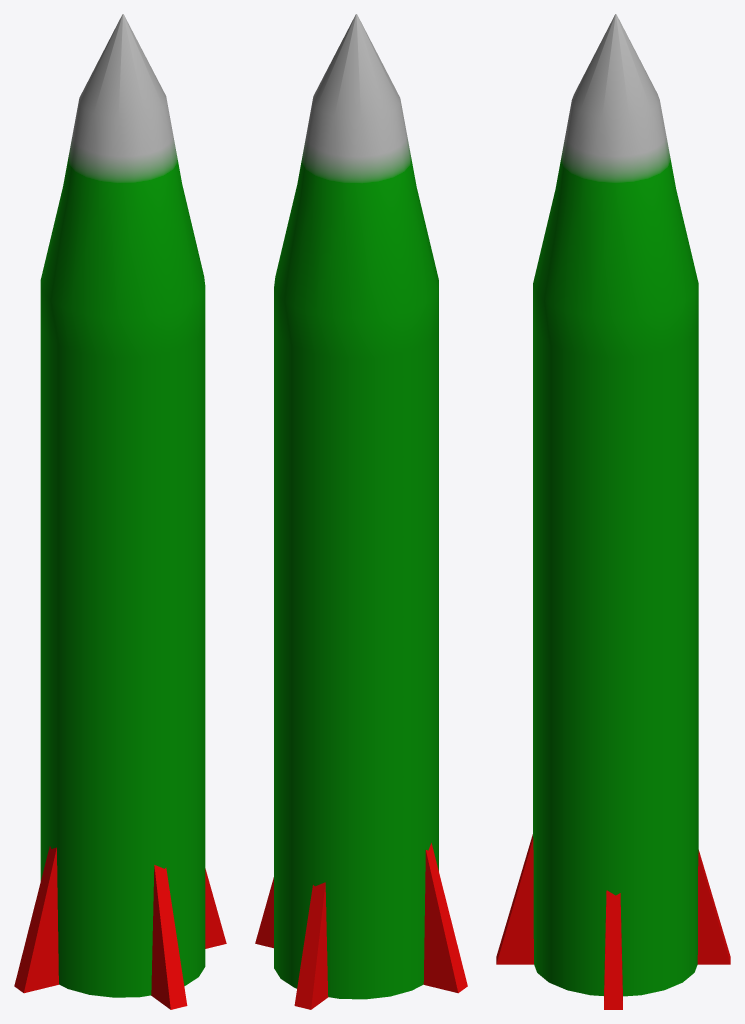
Rendered from rocket.fbx.
3 renders of one model, left to right at view 1: azimuth 30°, elevation 25°; view 2: azimuth 150°, elevation 25°; view 3: azimuth 270°, elevation 25°, orthographic.
Parts seen in each view (by area): view 1: rocket; view 2: rocket; view 3: rocket.
Boxes of the visible parts, box(x1,y1,x2,y2) form: rocket: box(14, 14, 226, 1009); rocket: box(255, 14, 467, 1009); rocket: box(496, 14, 730, 1009).
Size of the model in its own units: 0.1737 by 0.7763 by 0.1737.
Materials: 1 (1 with a texture image).
